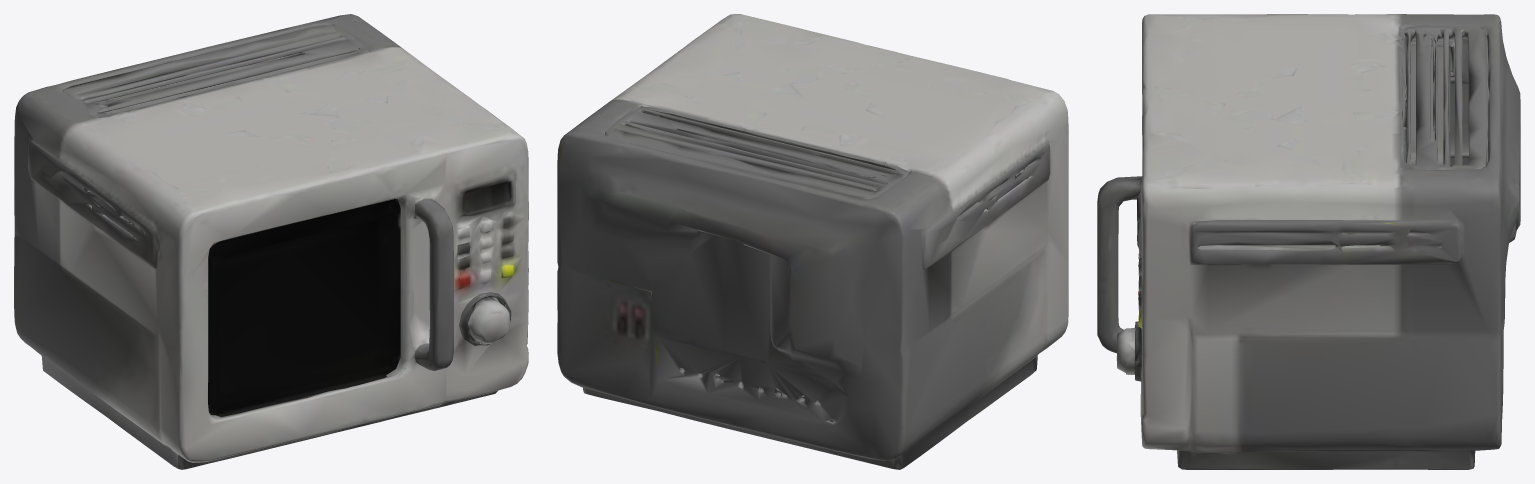
The model's file is microwave.glb.
3 renders of one model, left to right at view 1: azimuth 30°, elevation 25°; view 2: azimuth 150°, elevation 25°; view 3: azimuth 270°, elevation 25°, orthographic. The views are drawn at different scales.
Visible parts, largest first — view 1: geometry_0; view 2: geometry_0; view 3: geometry_0.
Part boxes in pixels (bbox=[...]): geometry_0: bbox=[14, 14, 528, 469]; geometry_0: bbox=[557, 14, 1068, 469]; geometry_0: bbox=[1097, 14, 1520, 469].
Size of the model in its own units: 1 by 0.7312 by 0.965.
Materials: 1 (1 with a texture image).
